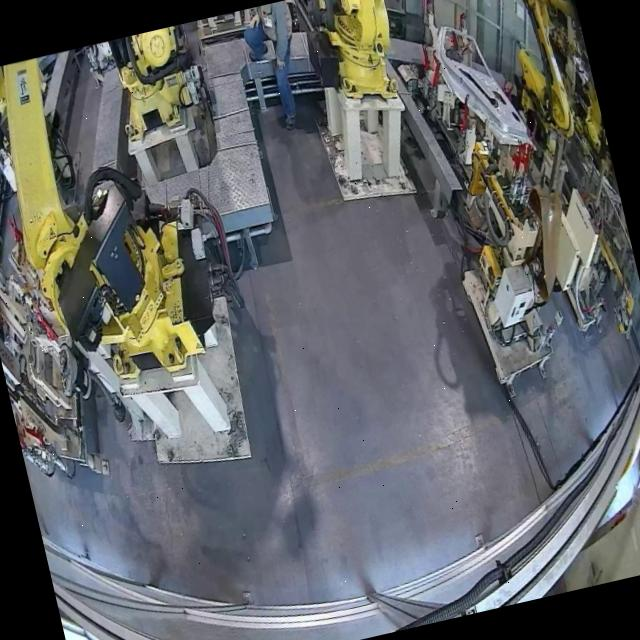Person: (250, 0, 316, 132), (238, 3, 285, 62)
